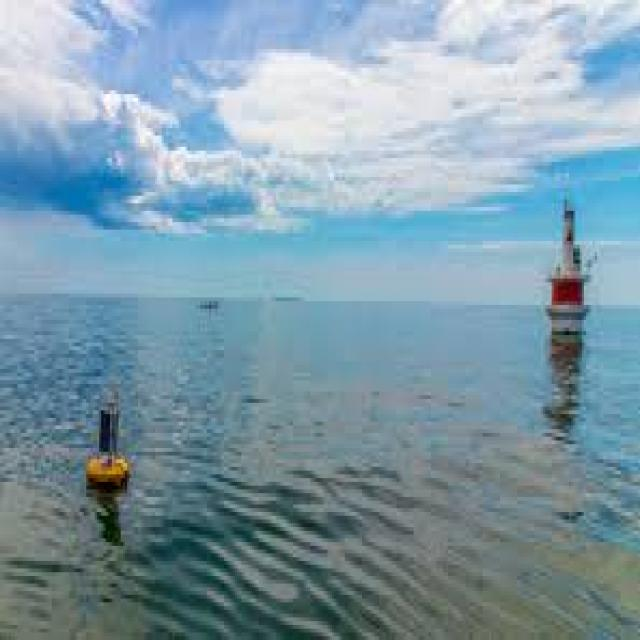buoy: (541, 168, 607, 348), (84, 382, 133, 492)
